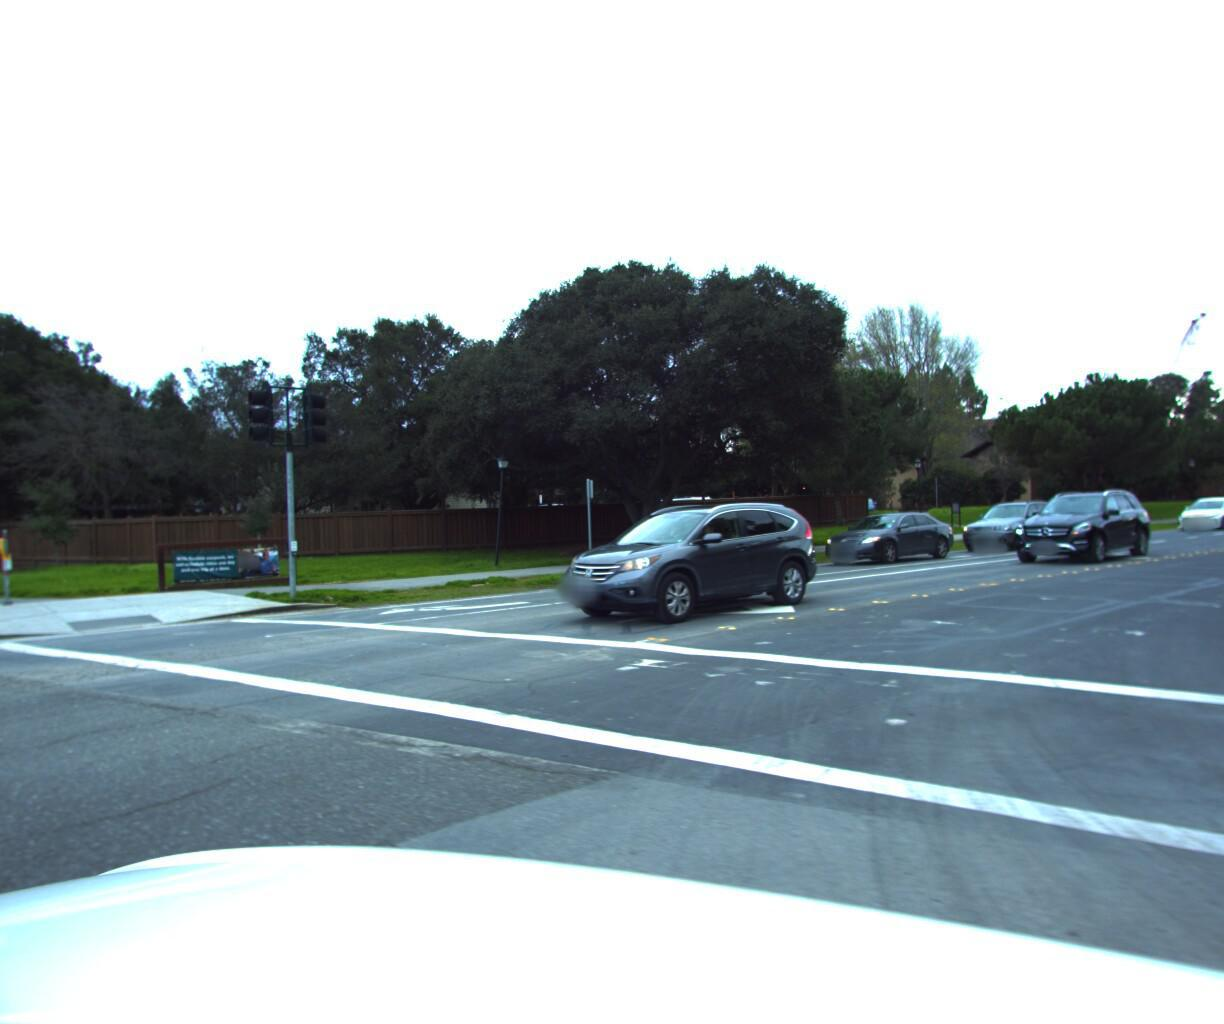car: (529, 498, 837, 631), (1005, 485, 1153, 559), (806, 504, 960, 563), (947, 491, 1065, 547), (1162, 489, 1224, 525)
